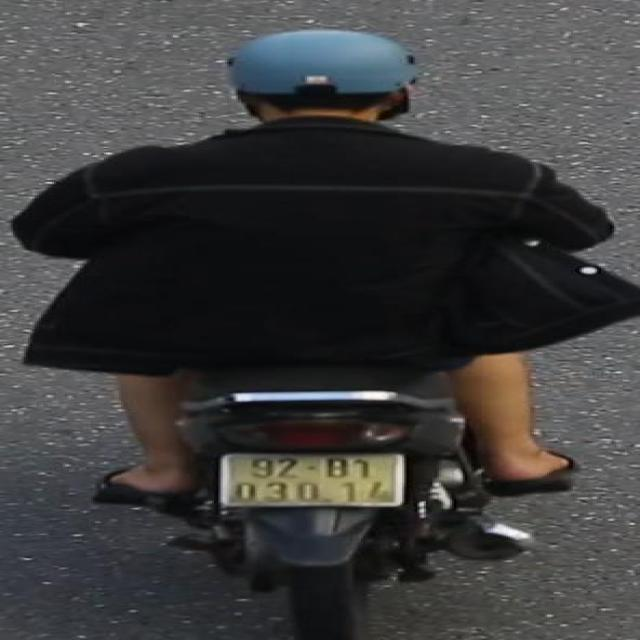LP: (201, 447, 420, 511)
helmet: (217, 24, 433, 144)
